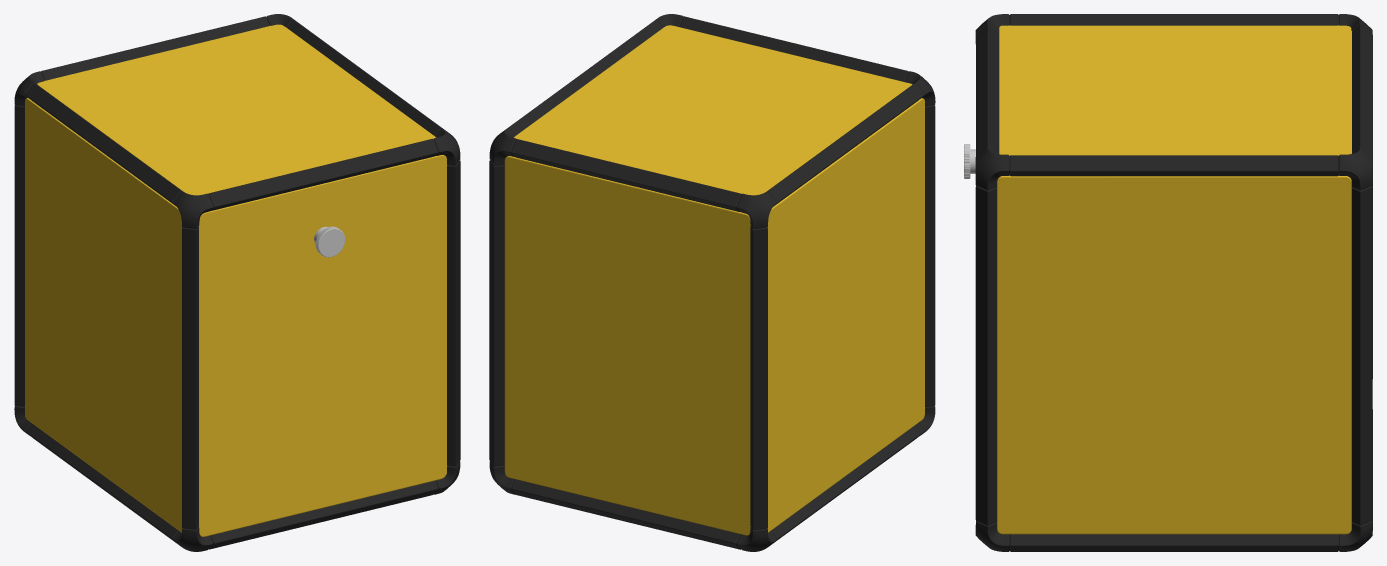
3 views of the same model, side by side, from view 1: azimuth 30°, elevation 25°; view 2: azimuth 150°, elevation 25°; view 3: azimuth 270°, elevation 25° (orthographic). The views are drawn at different scales.
Parts seen in each view (by area): view 1: 329x374x420; view 2: 329x374x420; view 3: 329x374x420.
Part boxes in pixels (bbox=[...]): 329x374x420: bbox=[14, 14, 460, 551]; 329x374x420: bbox=[489, 14, 935, 551]; 329x374x420: bbox=[964, 14, 1372, 551].
Bounding box in the file's own units: 0.4067 × 0.4976 × 0.4646.
